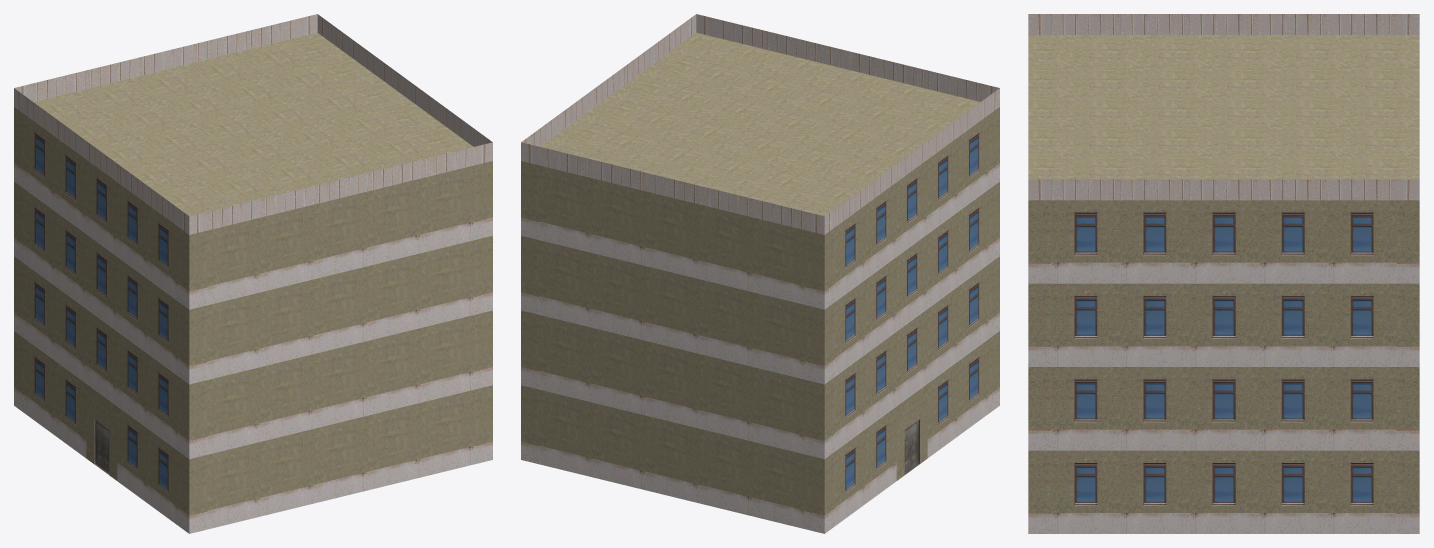
File: flat_square_concrete_alt.glb
3 views of the same model, side by side, from view 1: azimuth 30°, elevation 25°; view 2: azimuth 150°, elevation 25°; view 3: azimuth 270°, elevation 25° (orthographic). The views are drawn at different scales.
Visible parts, largest first — view 1: flat_square_concrete_alt; view 2: flat_square_concrete_alt; view 3: flat_square_concrete_alt.
Part boxes in pixels (box(x1,y1,x2,y2)): flat_square_concrete_alt: box(14, 14, 492, 533); flat_square_concrete_alt: box(521, 14, 999, 533); flat_square_concrete_alt: box(1028, 14, 1419, 533).
Bounding box in the file's own units: 17 × 17 × 17.
1 material, 1 textured.
